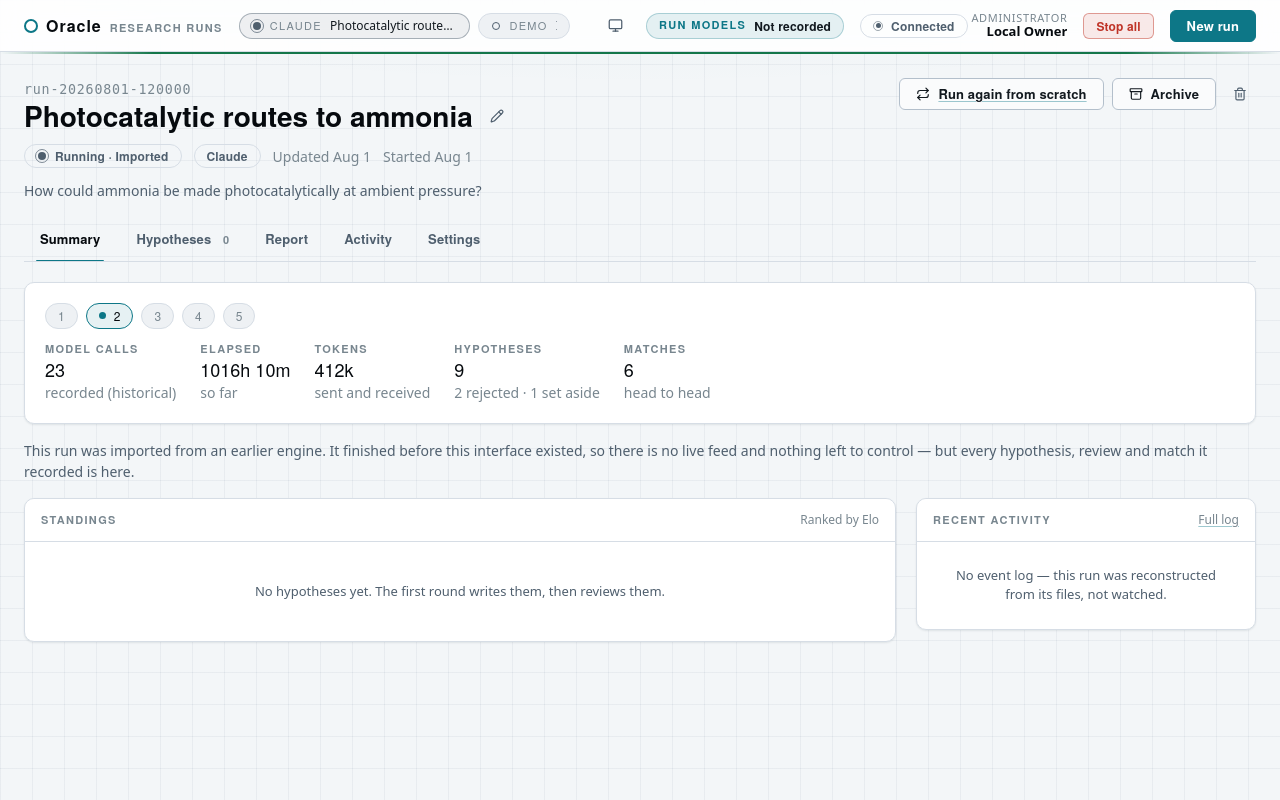
Scenario: model indicator — a run › is honest about an imported run that recorded no table
The width and height of the screenshot is (1280, 800).
Click the button with aria-label "Run models:": (745, 26) [646, 12, 844, 38]
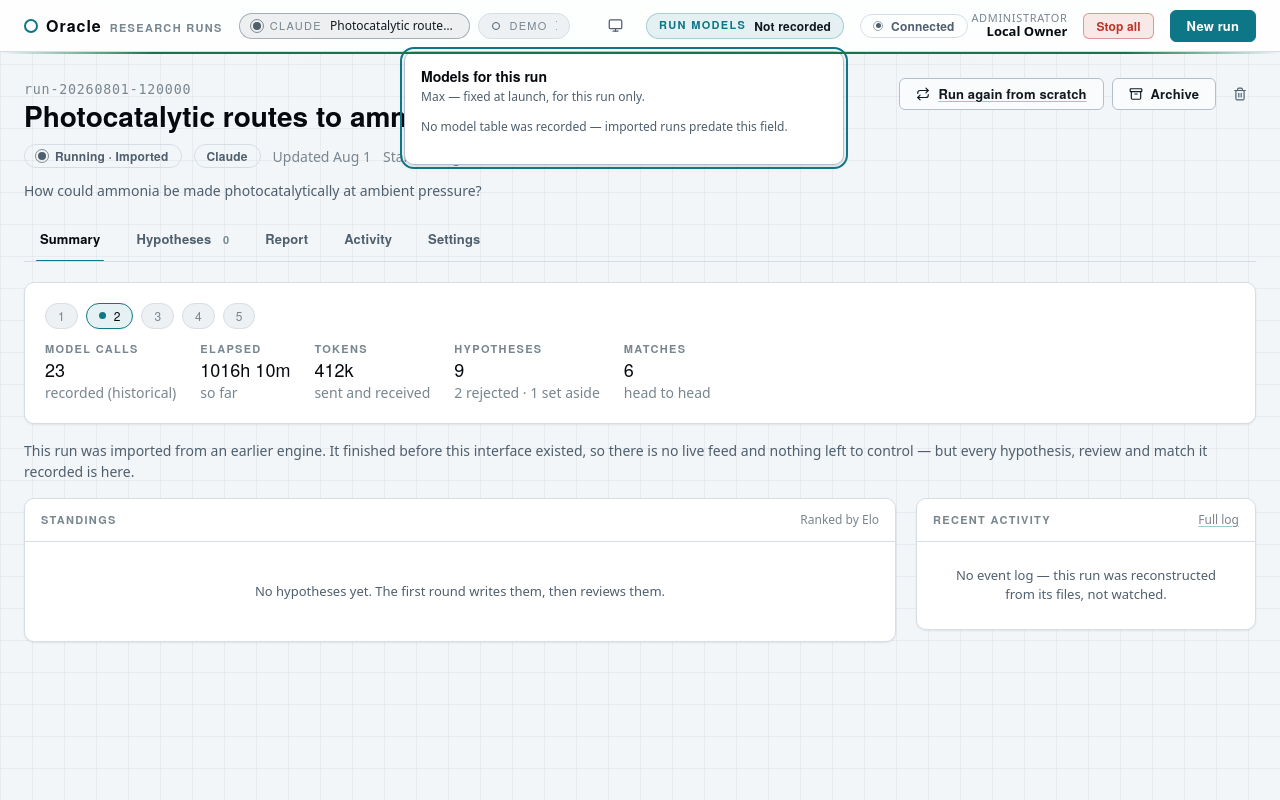
Now the element that starts with "Models for this run" shows "predate this field", box [421, 118, 788, 135]
